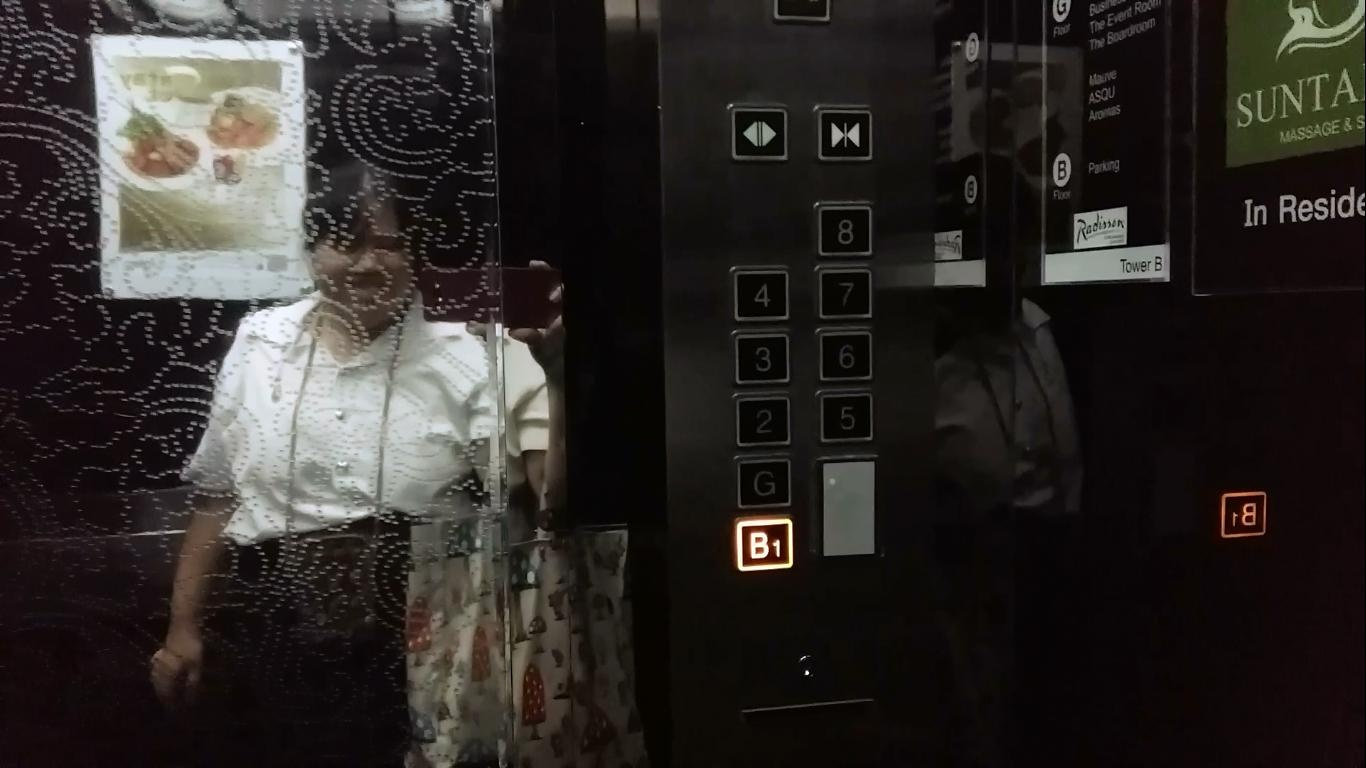2: (730, 390, 794, 451)
3: (728, 326, 794, 387)
4: (728, 264, 792, 325)
5: (812, 386, 876, 446)
6: (813, 326, 877, 386)
7: (811, 263, 878, 322)
8: (812, 199, 876, 262)
B1: (732, 514, 794, 572)
G: (731, 453, 795, 511)
close: (811, 102, 875, 164)
keyhole: (795, 655, 820, 681)
open: (726, 102, 792, 164)
unknown: (1216, 489, 1268, 540)
